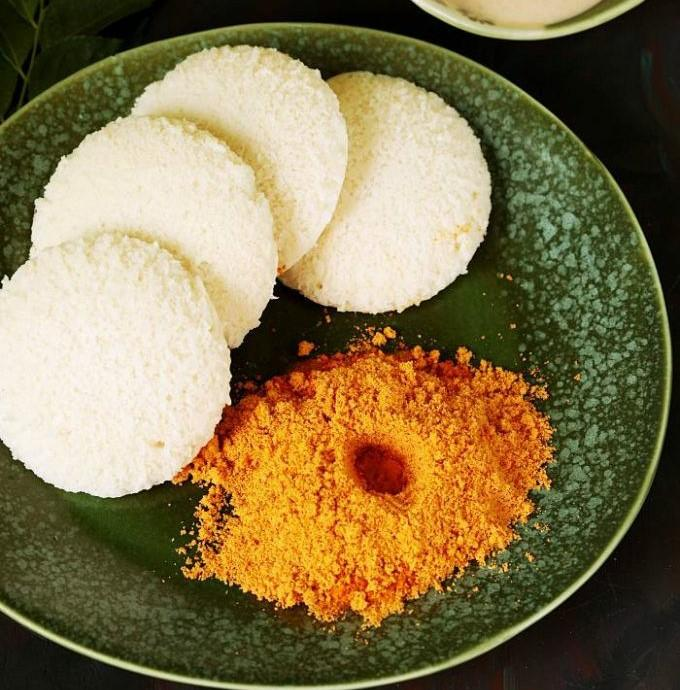Idli: (0, 232, 228, 497), (28, 115, 277, 348), (273, 70, 492, 314), (128, 44, 345, 279)
